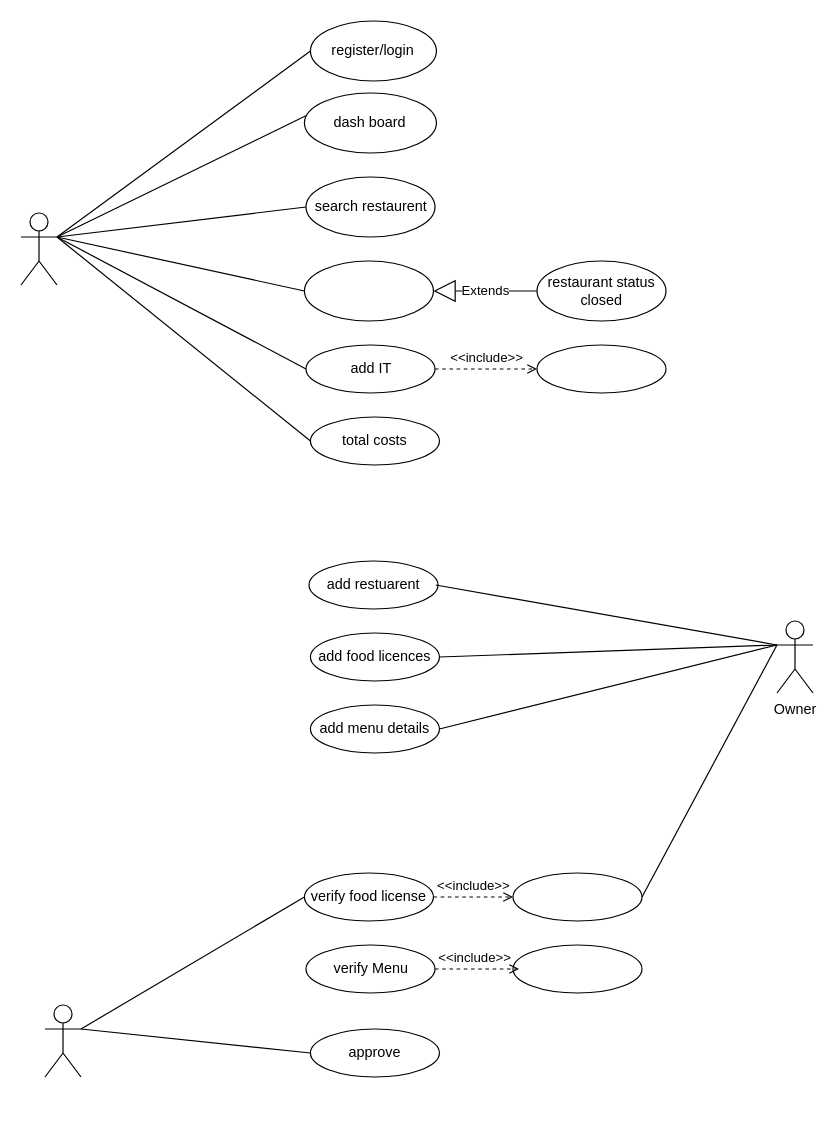
Image size: 836x1123. Some labels were removed from this diagram. Here are the shapes that lost their labels. From the top down, the centre of each, then its label:
point 38,248: User
point 368,290: restaurant timing
point 601,368: open menu
point 577,896: view licence
point 577,968: include price and Item
point 62,1040: Admin
